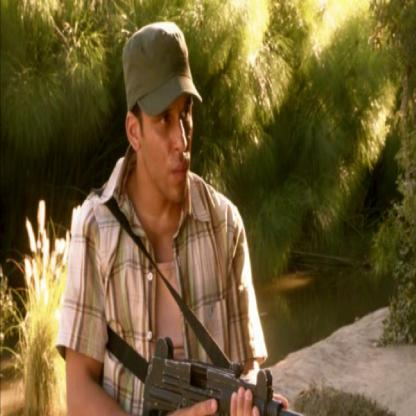Guns: (137, 332, 307, 415)
